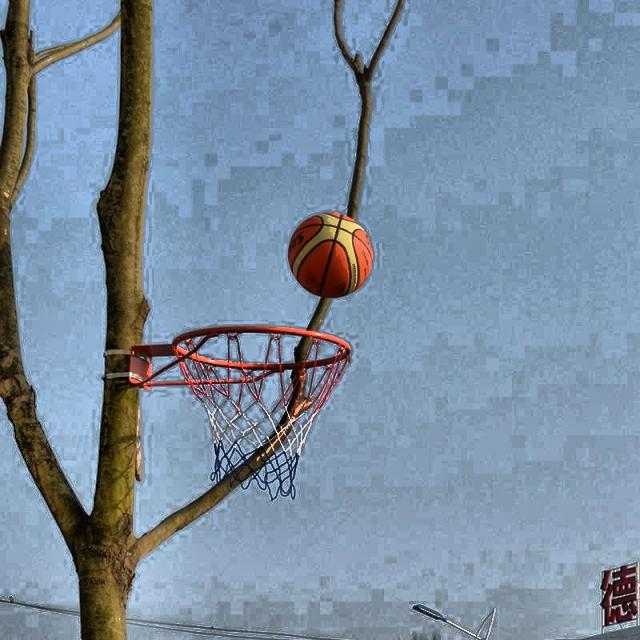board: (288, 212, 374, 297)
rim: (172, 326, 350, 501)
